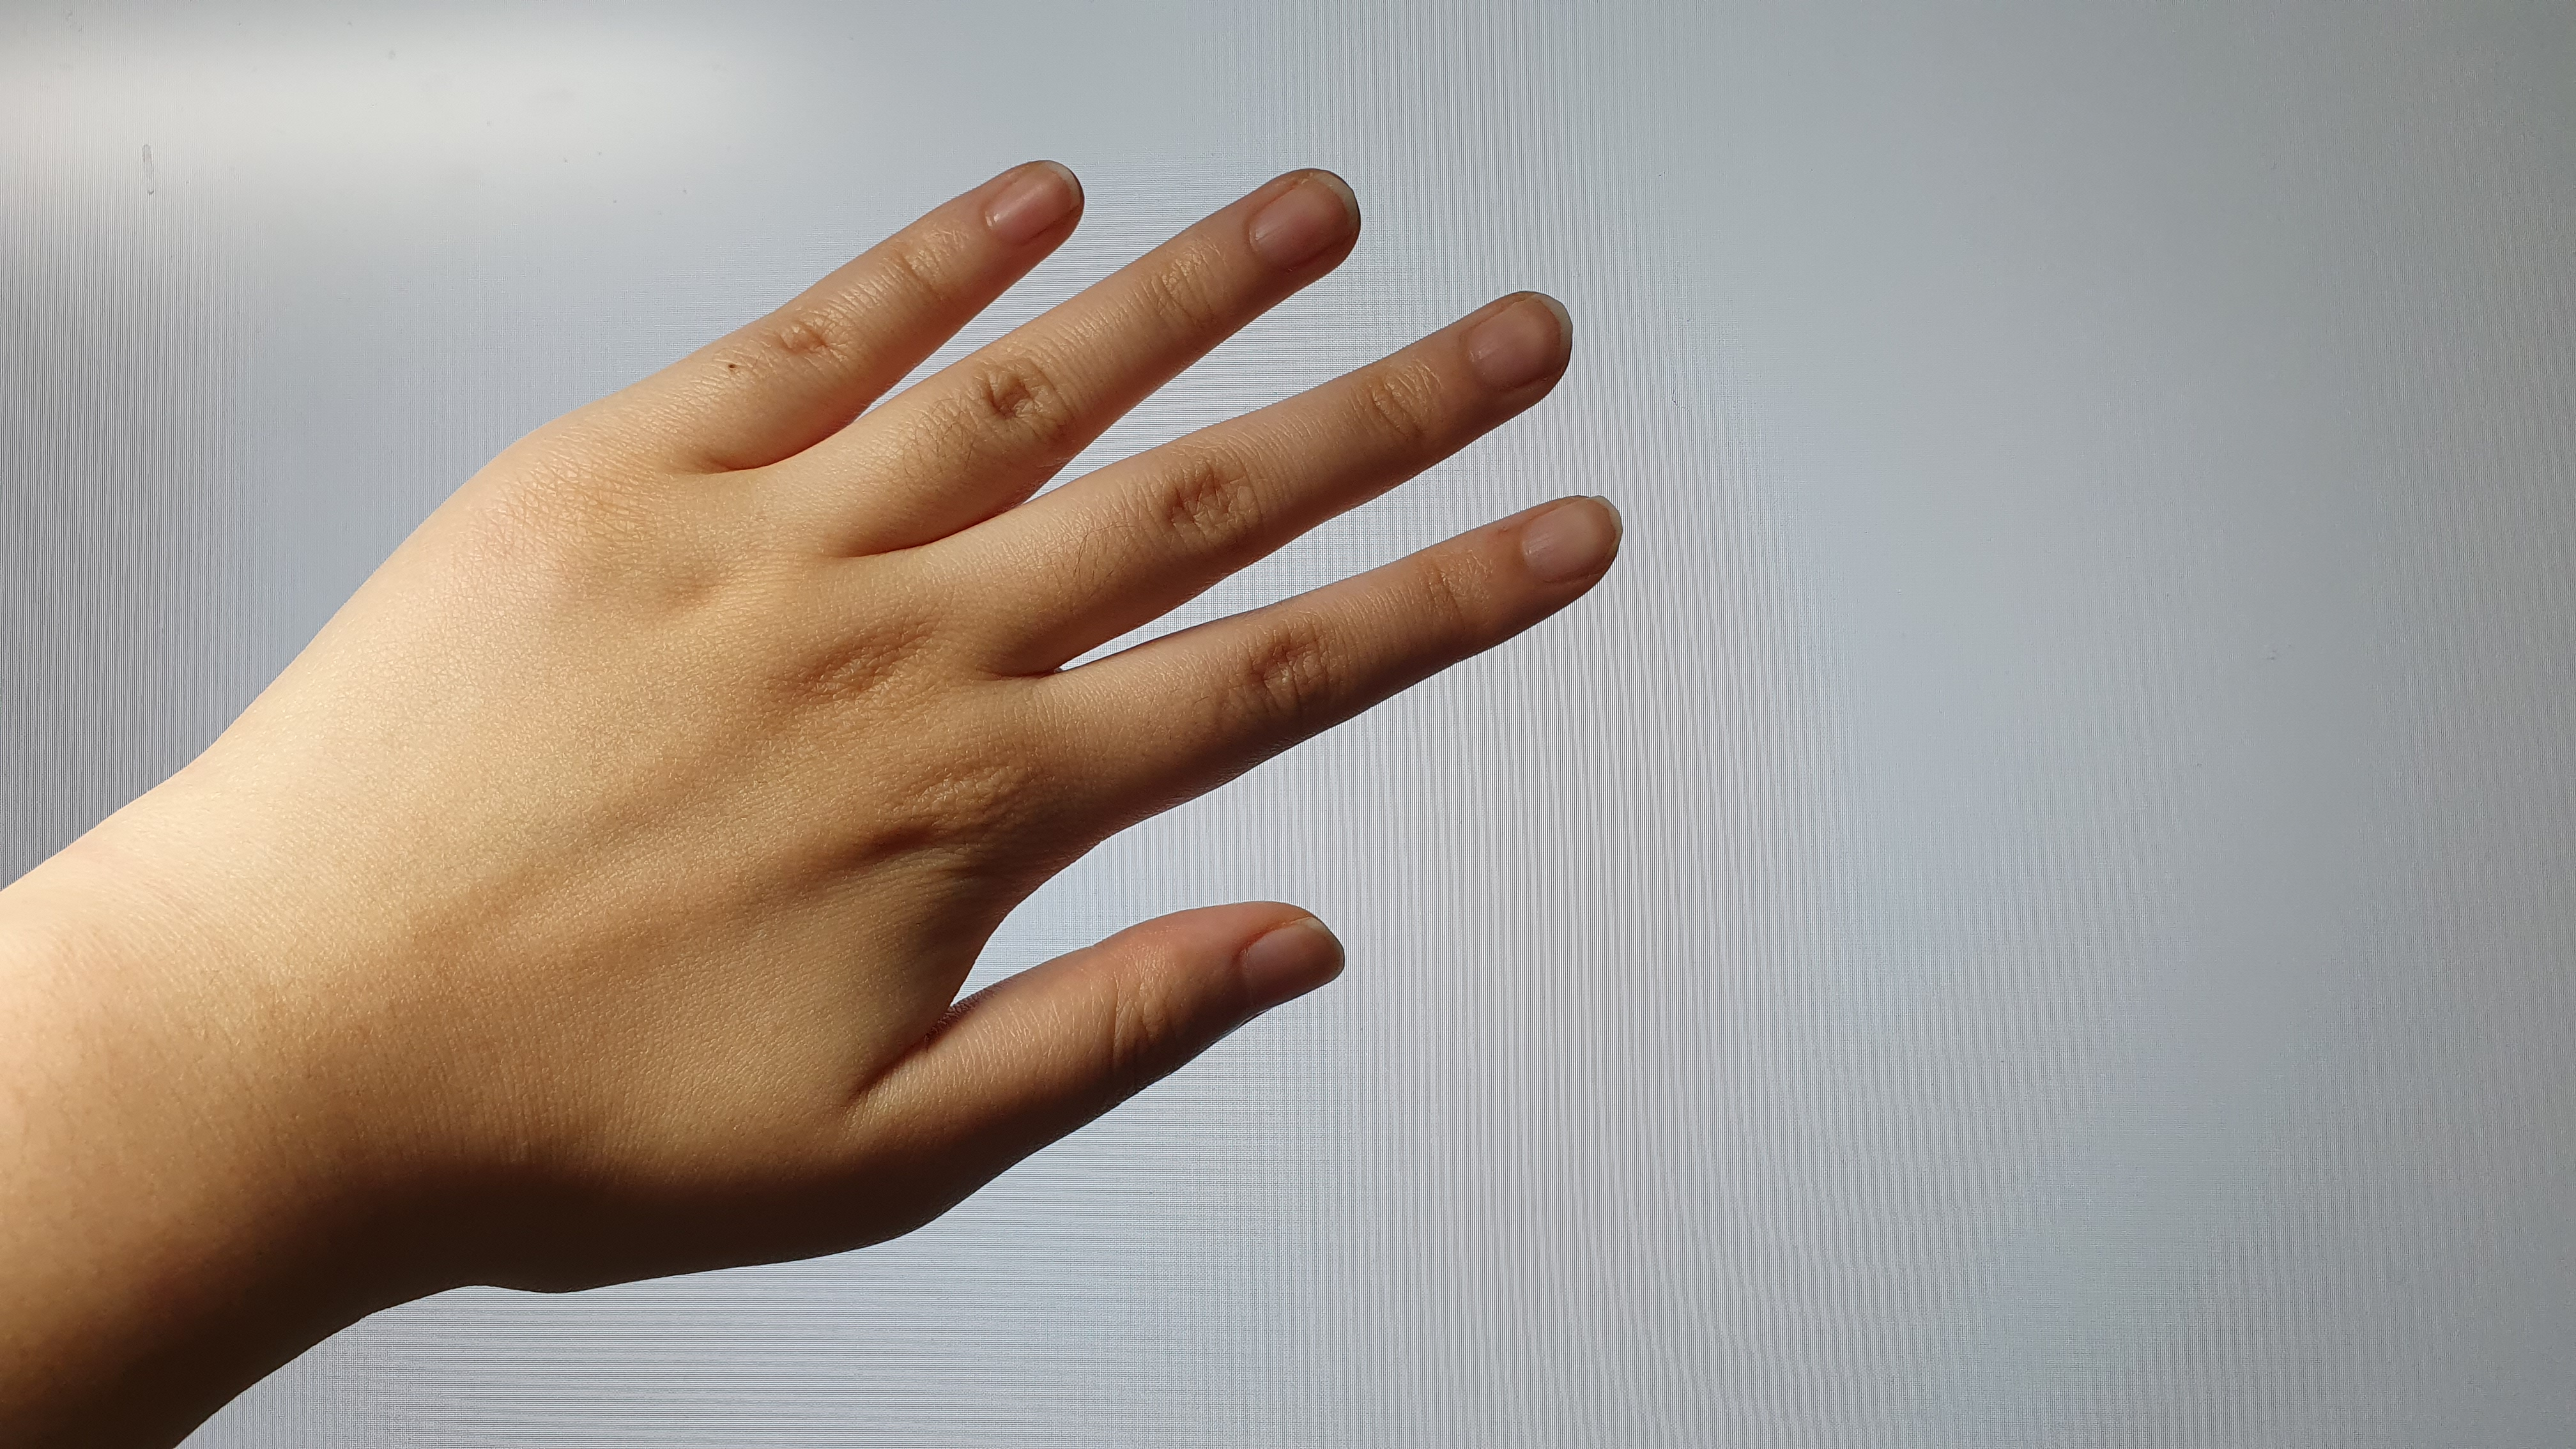backhand: (249, 460, 977, 1256)
hand: (212, 138, 1654, 1316)
index finger: (1010, 481, 1633, 821)
middle finger: (934, 278, 1582, 660)
pinky: (642, 138, 1108, 488)
ring finger: (814, 154, 1375, 548)
thumb: (909, 888, 1357, 1185)
